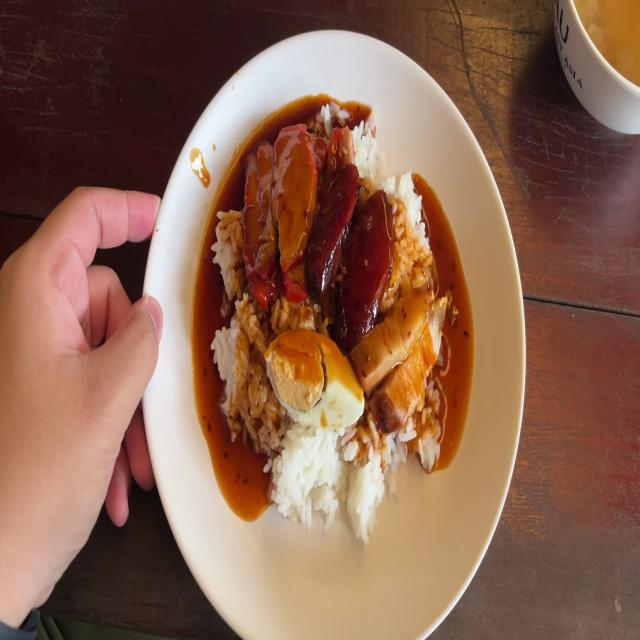red_pork_and_crispy_pork: (265, 328, 365, 422)
stir_fried_basil: (315, 169, 384, 333), (350, 194, 390, 330), (316, 160, 353, 288)
